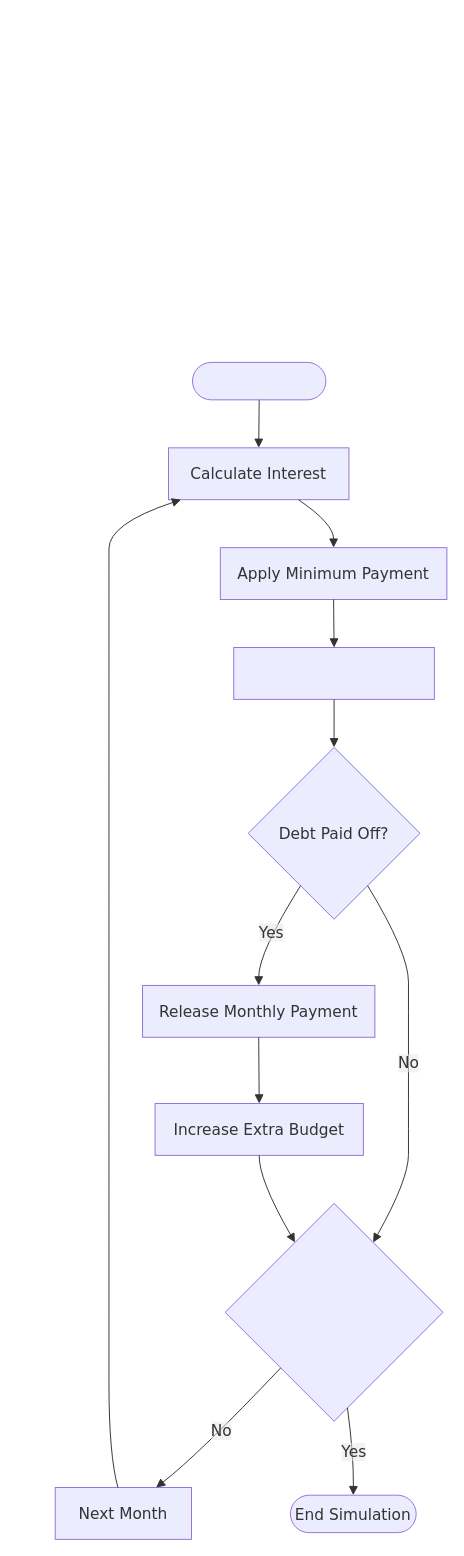
Image size: 464x1556. Some labels were removed from this diagram. Each missing label, with the centre of its shape:
"All Debts Paid Off?" belongs at point 333,1311.
"Apply Extra Payment" belongs at point 333,673.
"Start Simulation" belongs at point 259,380.
